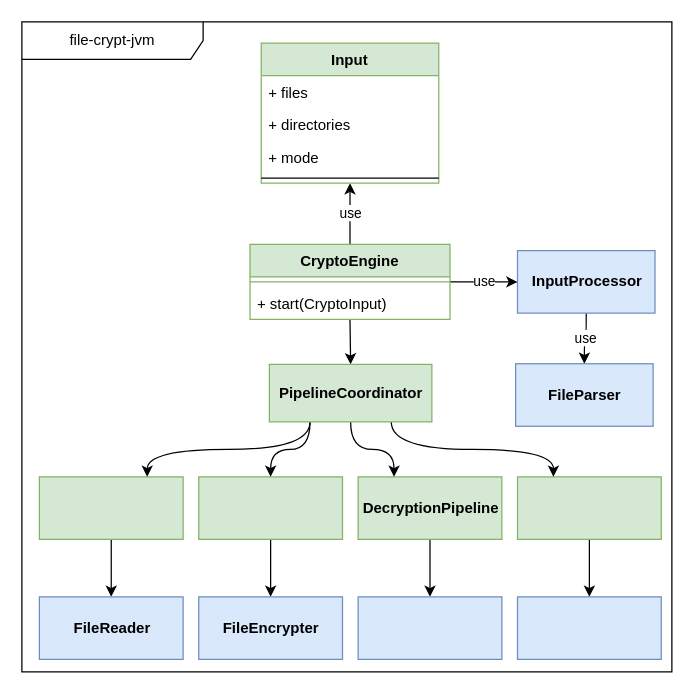
Image size: 694x694. Some labels were removed from this diagram. The shapes that lost their labels are listed below. From the top down, each one's centre as x and y in pixels, then its label:
At point 110,507: "FileReadPipeline".
At point 270,507: "EncryptionPipeline".
At point 588,507: "FileWritePipeline".
At point 429,627: "FileDecrypter".
At point 588,627: "FileWriter".
